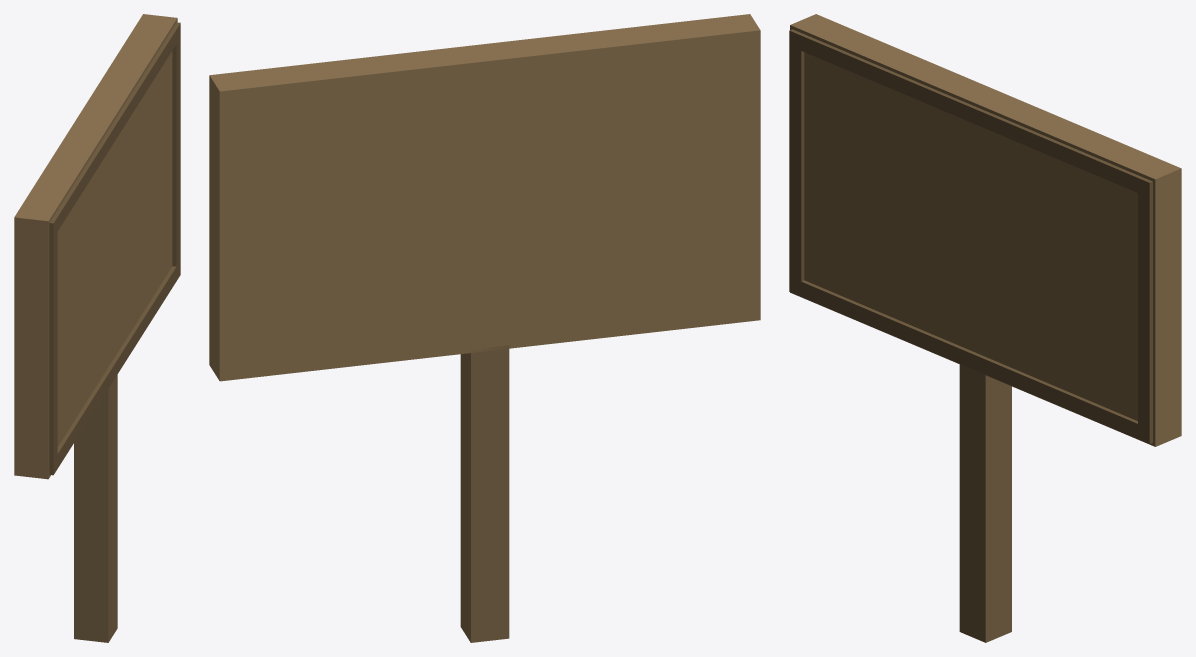
Rendered from sign_dark_oak_diag.gltf.
The picture shows the model from 3 angles, left to right: view 1: azimuth 30°, elevation 25°; view 2: azimuth 150°, elevation 25°; view 3: azimuth 270°, elevation 25°; orthographic projection. The views are drawn at different scales.
Visible parts, largest first — view 1: sign_dark_oak_diag; view 2: sign_dark_oak_diag; view 3: sign_dark_oak_diag.
Boxes of the visible parts, x1,y1,x2,y2 form: sign_dark_oak_diag: (14, 14, 180, 642); sign_dark_oak_diag: (209, 14, 760, 642); sign_dark_oak_diag: (789, 14, 1181, 642).
Bounding box in the file's own units: 0.664 × 1 × 0.664.
